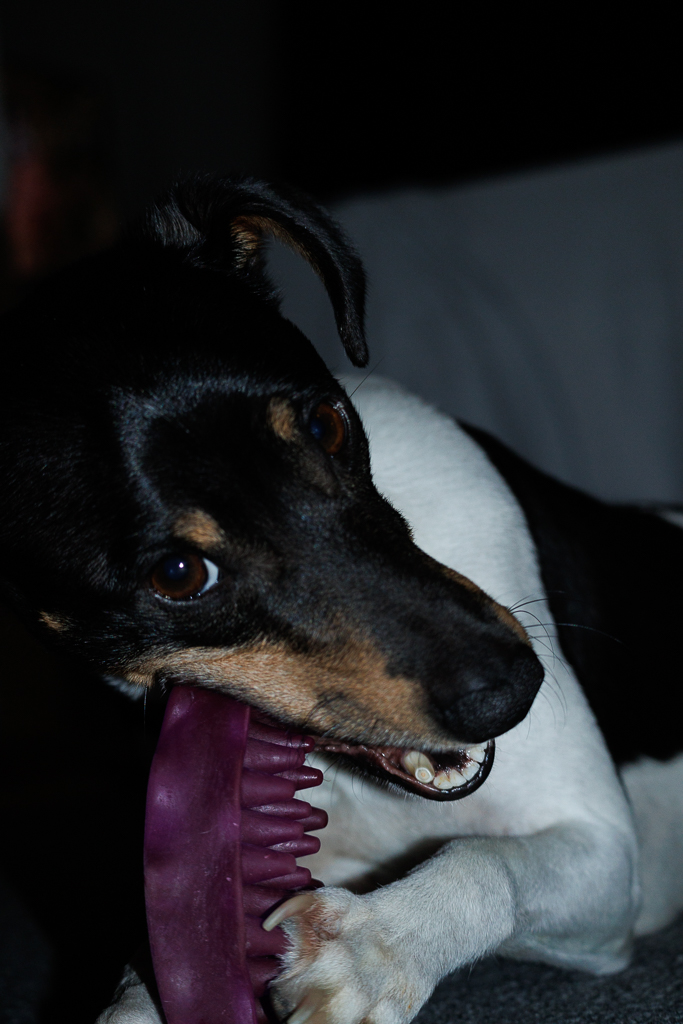Dog: (0, 130, 683, 1024)
